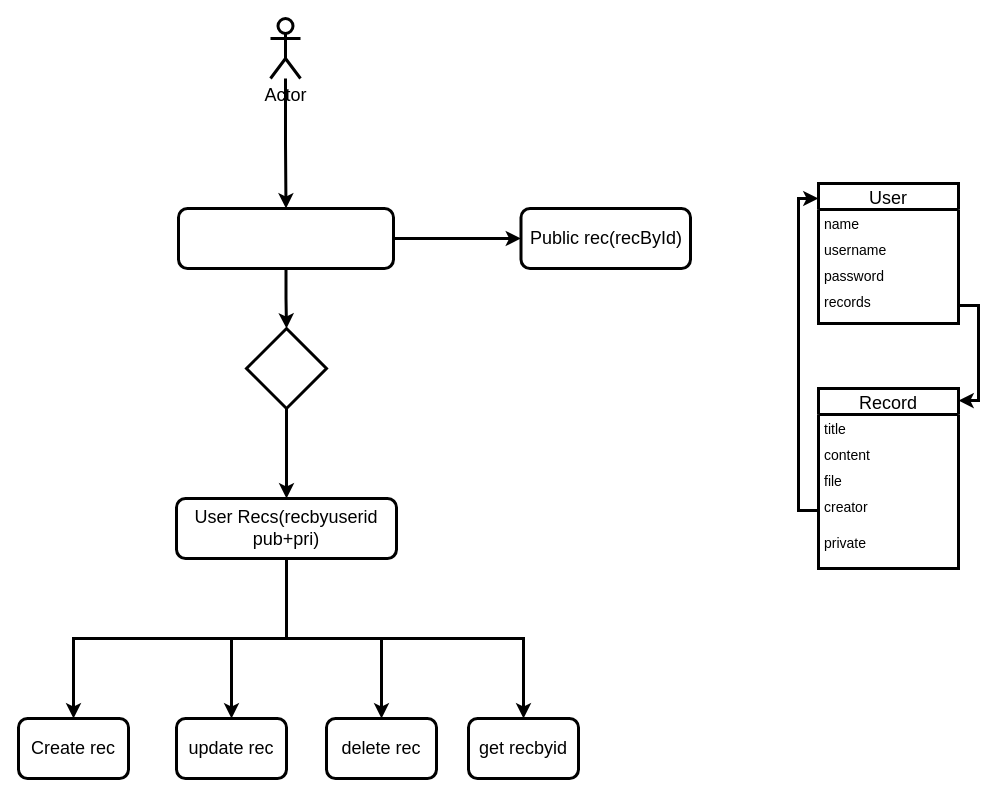
The diagram is 1005 pixels wide and 797 high, and some of its shapes have lost their labels. Each missing label, with the centre of its shape:
"auth" goes at [286,368].
"Home (All public recs)" goes at [285,238].
